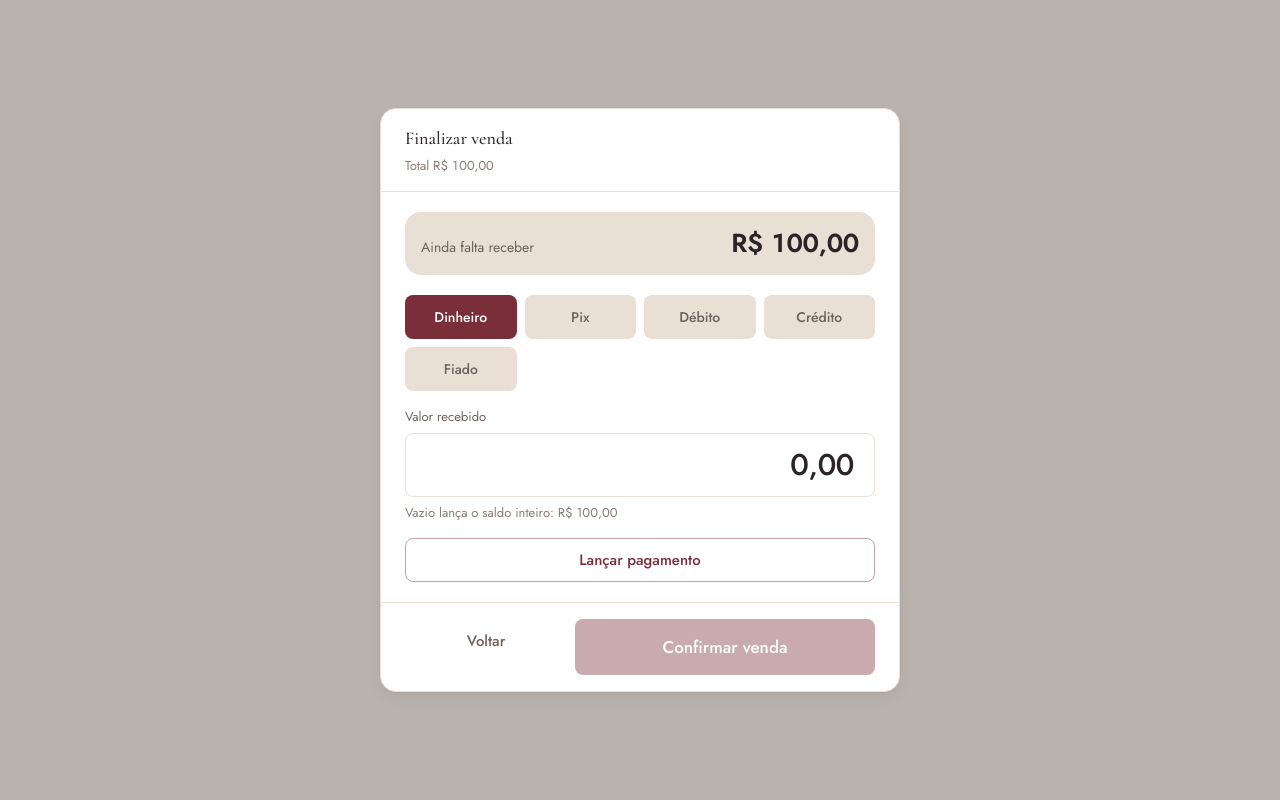
fiado exige cliente identificada › lançar fiado sem cliente é recusado com instrução
The width and height of the screenshot is (1280, 800).
Click the button "Fiado" at [461, 369], box [405,347,516,391]
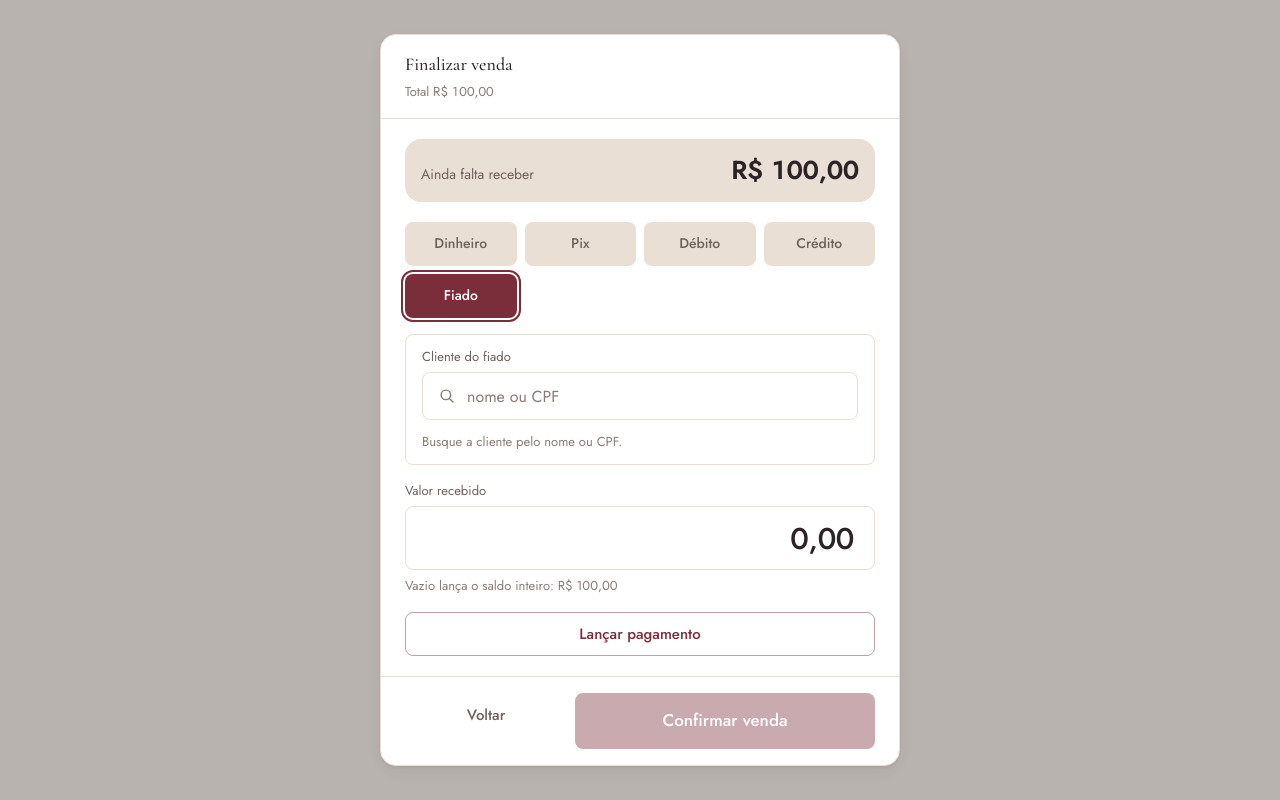
Click the button "Lançar pagamento" at [640, 634], box [405,612,875,656]
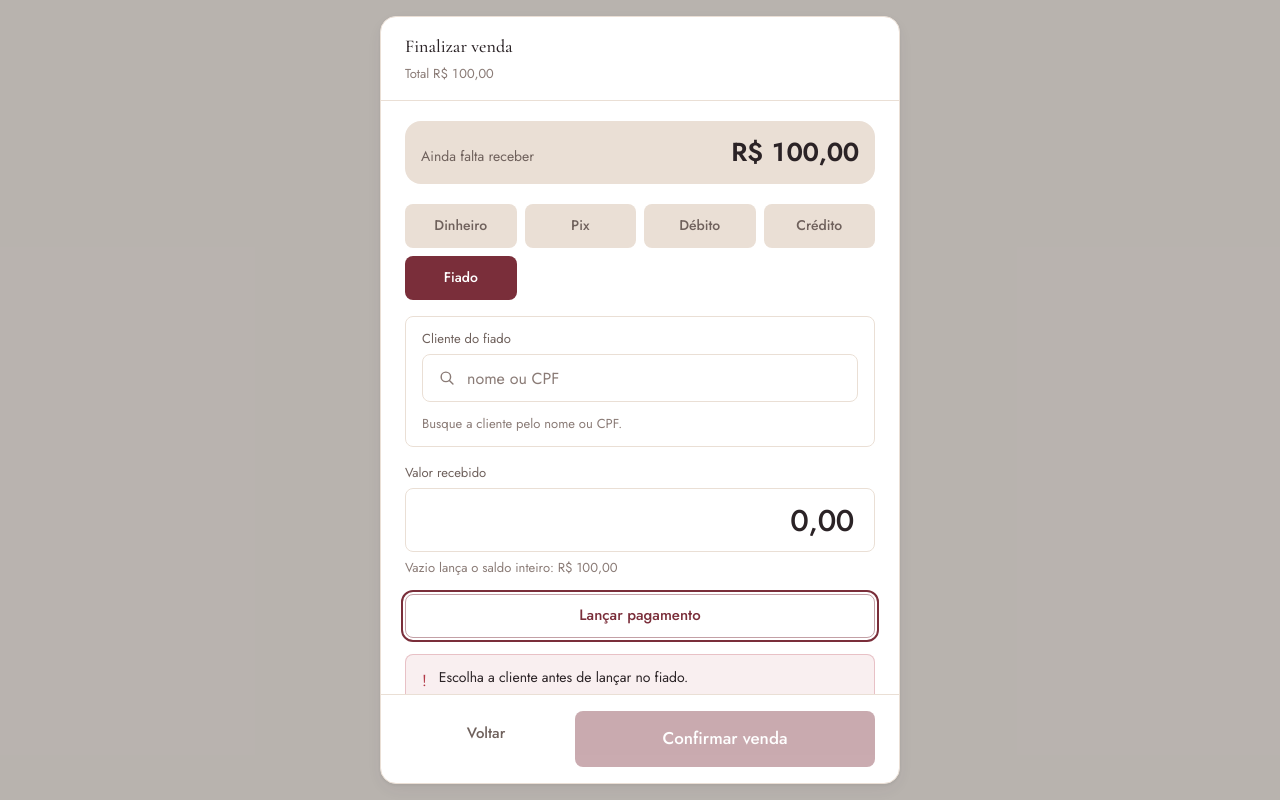
Expected: the message shows "Escolha a cliente antes de lançar no fiado.", [439,666,688,686]
